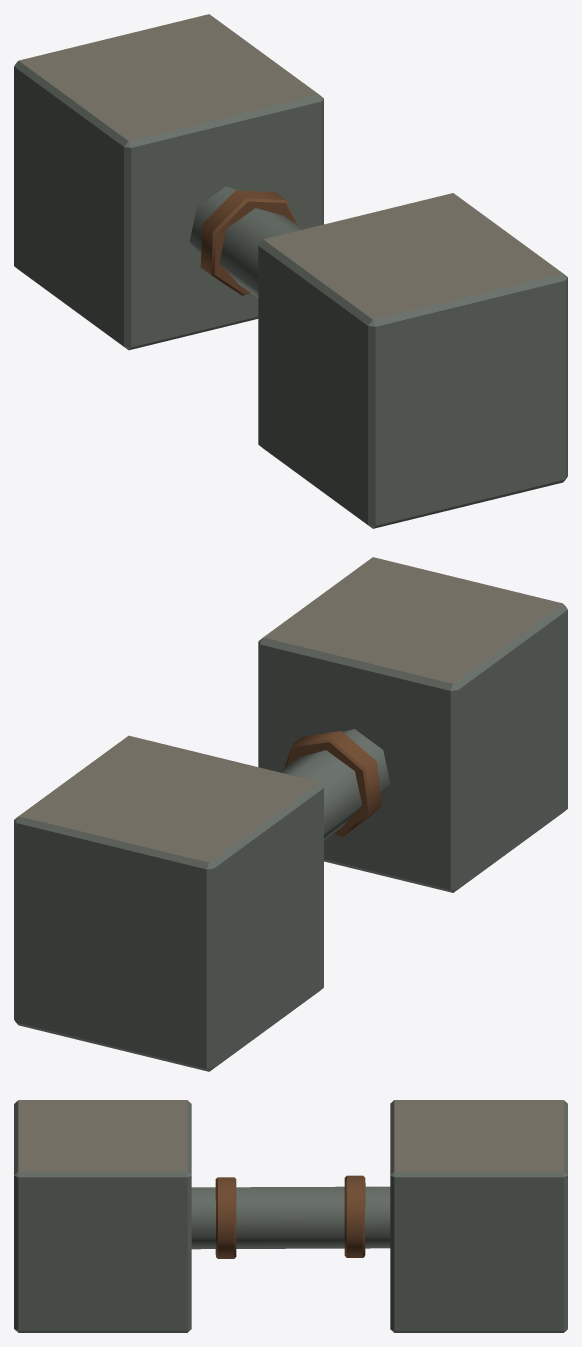
Rendered from R4C_STRUT_STANDARD_LOD1.fbx.
The picture shows the model from 3 angles, top to bottom: view 1: azimuth 30°, elevation 25°; view 2: azimuth 150°, elevation 25°; view 3: azimuth 270°, elevation 25°; orthographic projection. The views are drawn at different scales.
Visible parts, largest first — view 1: R4C_STRUT_STANDARD_LOD1; view 2: R4C_STRUT_STANDARD_LOD1; view 3: R4C_STRUT_STANDARD_LOD1.
Boxes of the visible parts, <box> form: R4C_STRUT_STANDARD_LOD1: <box>14,14,567,528</box>; R4C_STRUT_STANDARD_LOD1: <box>14,557,567,1071</box>; R4C_STRUT_STANDARD_LOD1: <box>14,1100,567,1332</box>.
Size of the model in its own units: 0.52 by 0.52 by 1.62.
